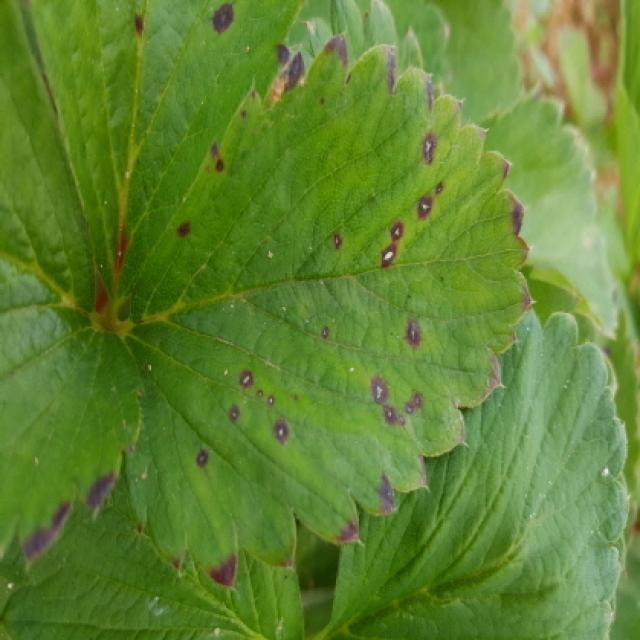Leaf Spot: (113, 32, 538, 593), (26, 0, 307, 311)
